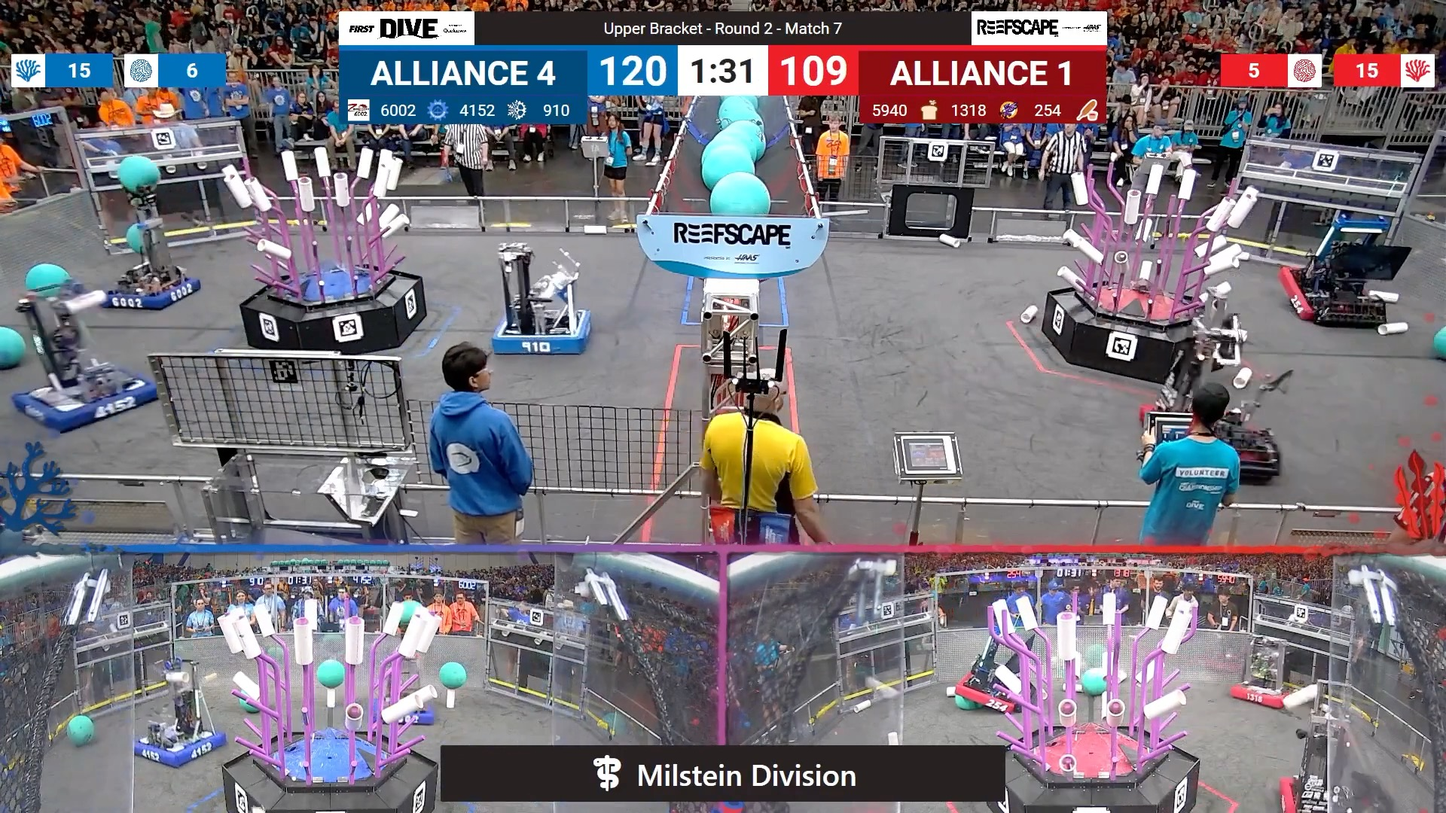bumpers: (1142, 404, 1283, 486), (8, 370, 166, 440), (1268, 267, 1388, 330), (487, 306, 601, 365), (126, 723, 235, 775), (98, 273, 211, 318), (955, 668, 1041, 717), (1273, 775, 1379, 813), (1222, 680, 1299, 712)
